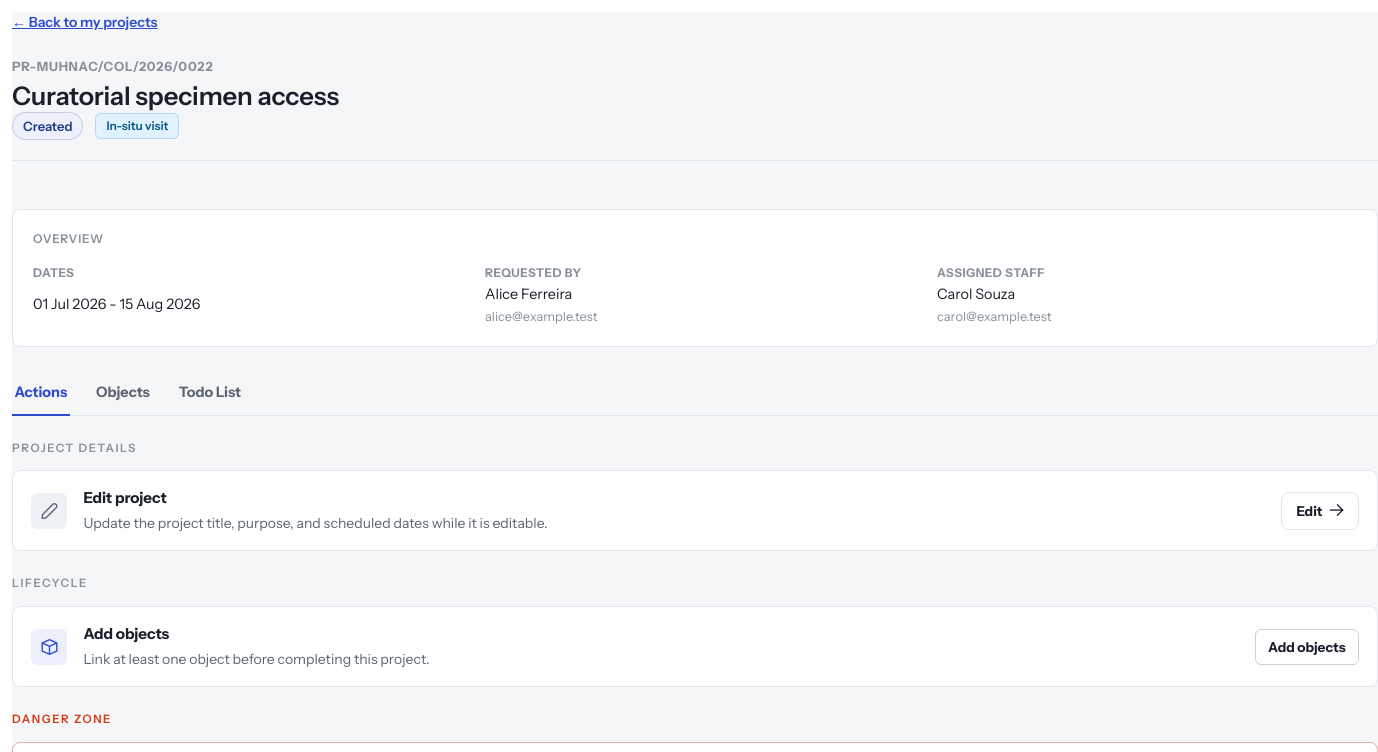
Test case: ProjectCuratorialDetailPageComponent › shows the TODO List panel
The width and height of the screenshot is (1378, 752).
Click the tab "Todo List". click: (210, 393)
box: [176,371,244,416]
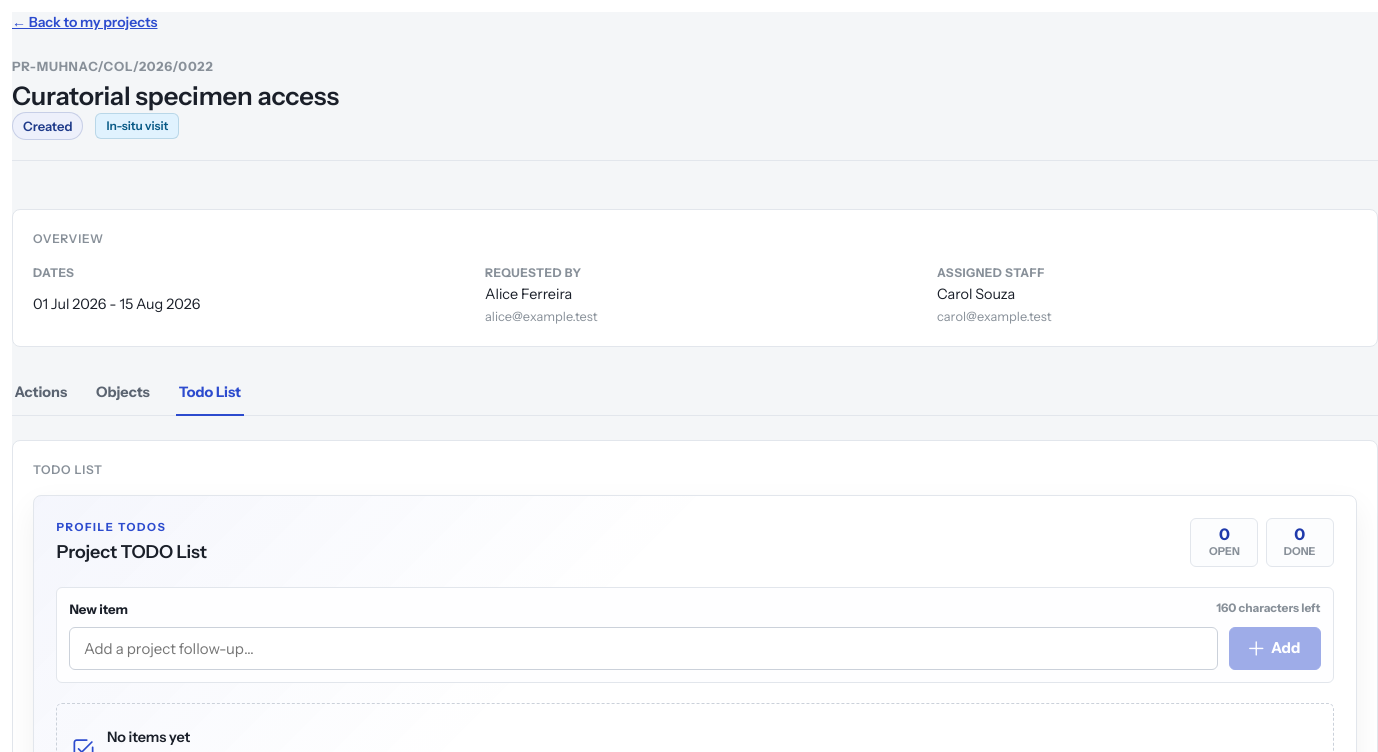
Expected: the text "Project TODO List" is shown, [56,539,207,566]
Expected: the text "New item" is shown, [69,600,128,620]
